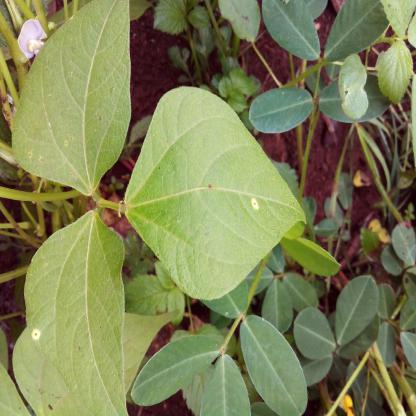Beans_Rust: (122, 85, 302, 301), (11, 208, 124, 416), (16, 0, 132, 193)
